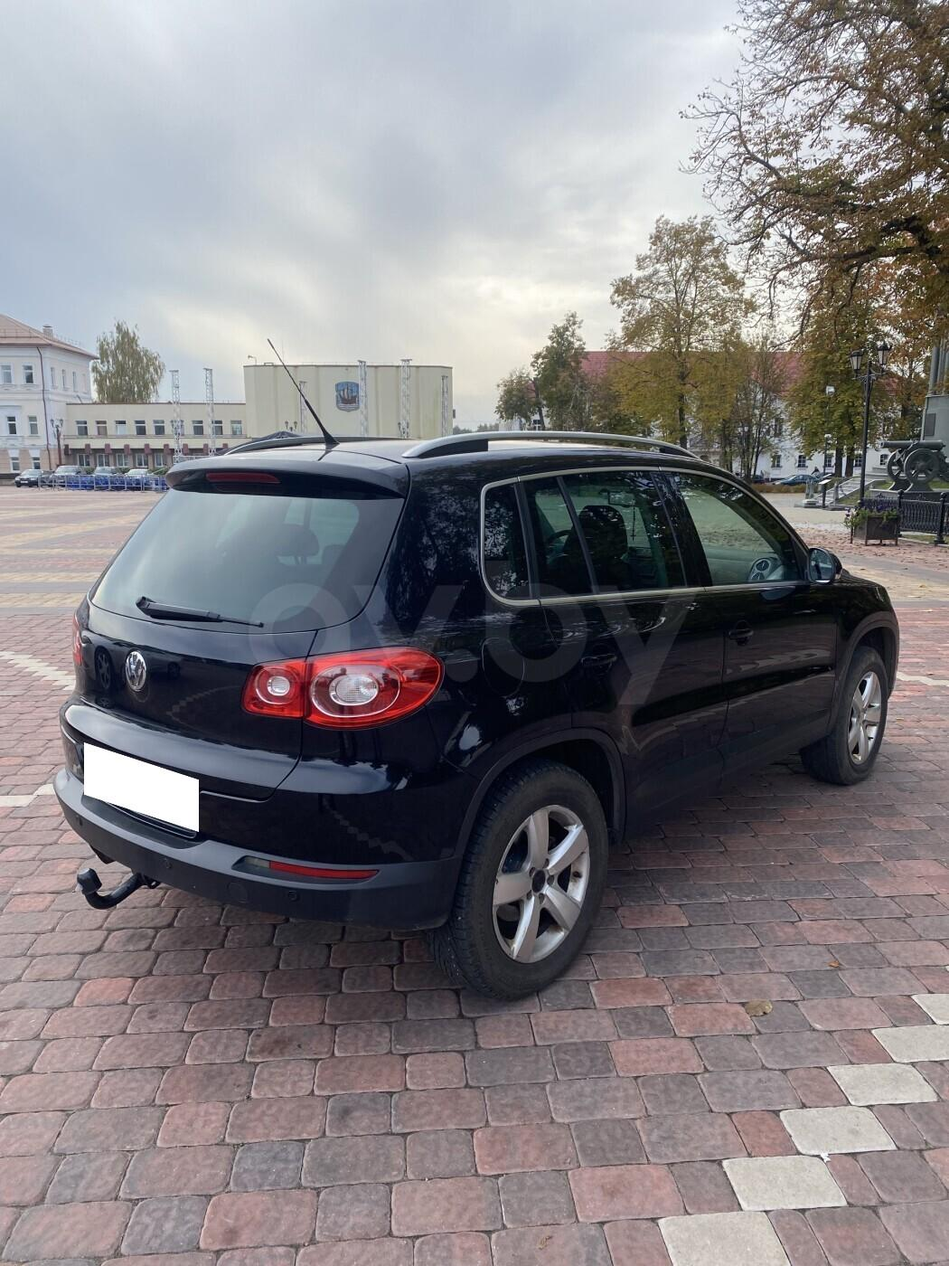Tiguan_2007-2011: (42, 423, 902, 1000)
